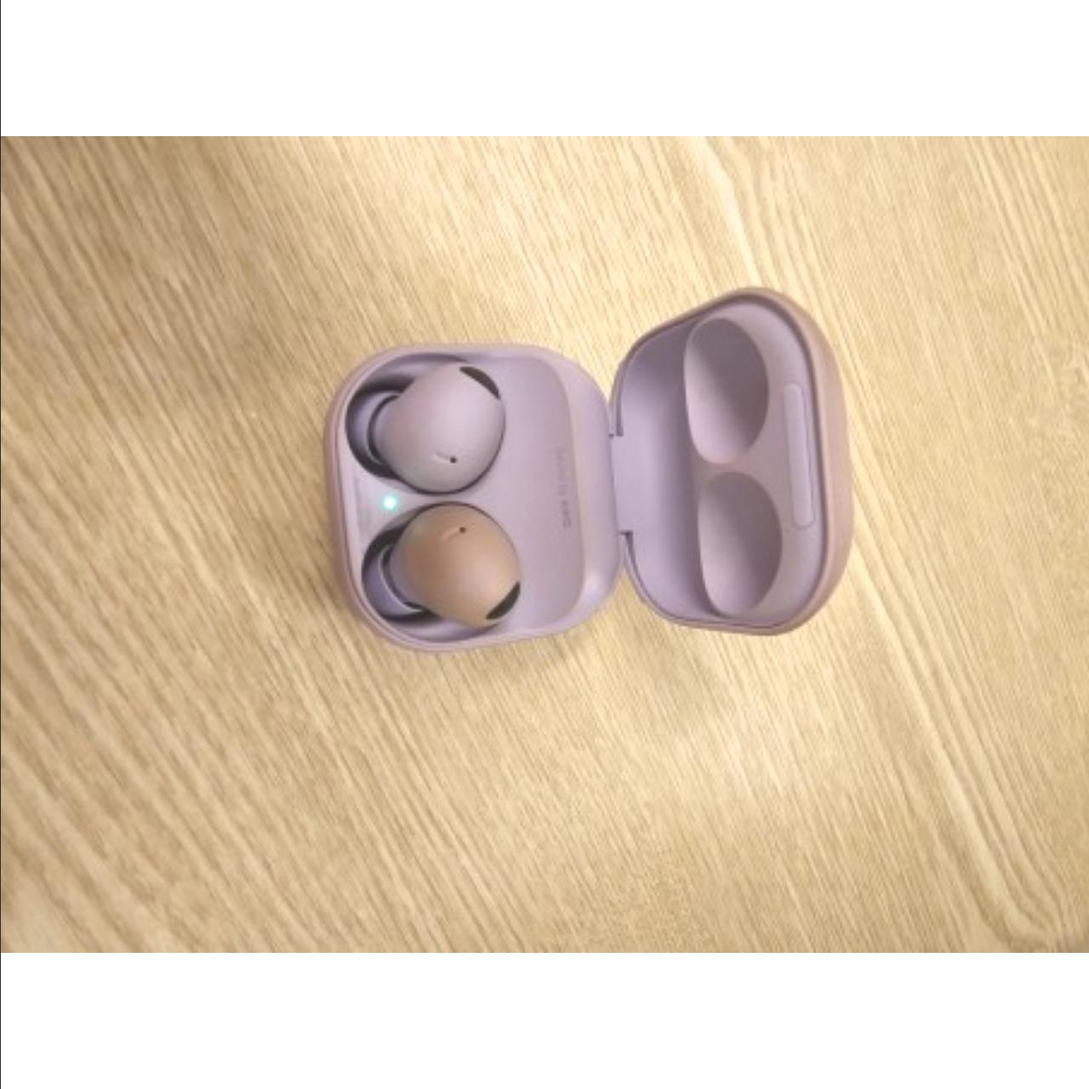Buds: (316, 285, 860, 661)
Buds_Units: (358, 499, 525, 644), (344, 357, 512, 501)
